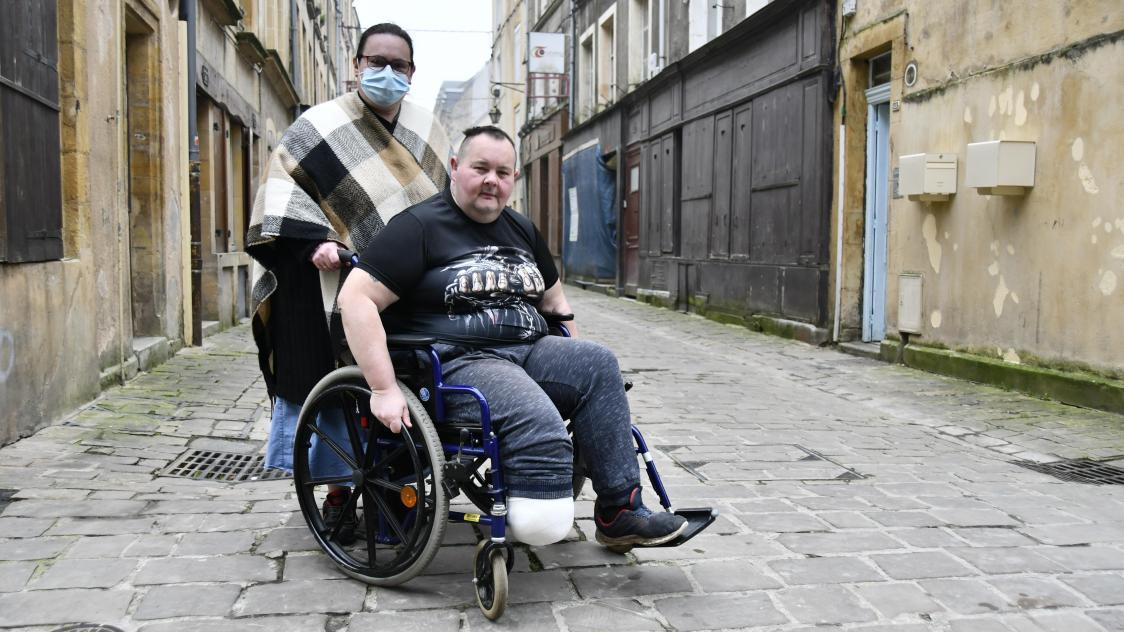push_wheelchair: (245, 22, 479, 540)
wheelchair: (292, 125, 718, 621)
